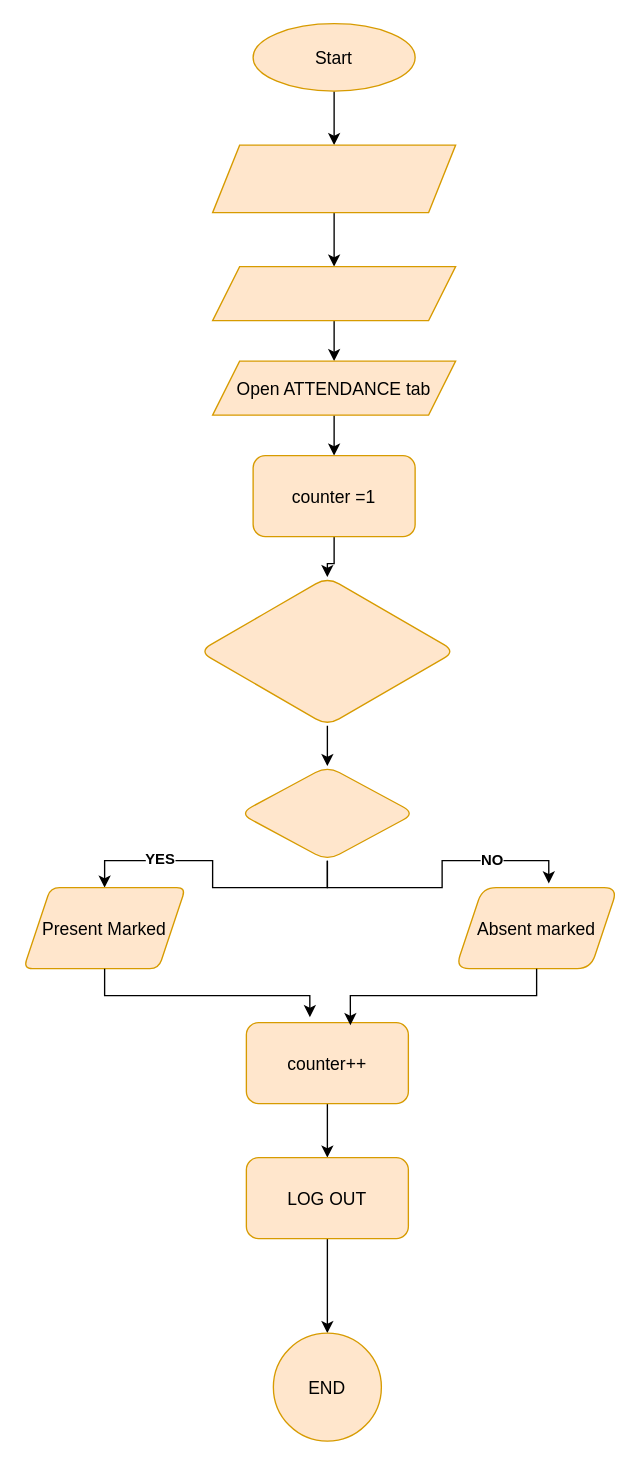
Image size: 641x1465. Some labels were removed from this diagram. The shapes that lost their labels are listed below. From the top down, each one's box as (x1, y1, x2, y2) in pixels, then its label:
(211, 144, 456, 213): Open browser and search for FLEX
(211, 265, 456, 321): LOG IN TO ID
(198, 576, 456, 726): while counter!=total_students
(238, 765, 415, 861): if present
